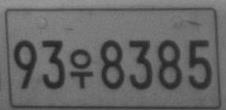3: (41, 39, 66, 89), (128, 39, 152, 89)
5: (187, 38, 213, 90)
8: (99, 38, 125, 90), (156, 38, 182, 90)
9: (12, 39, 37, 90)
우: (69, 47, 93, 89)
